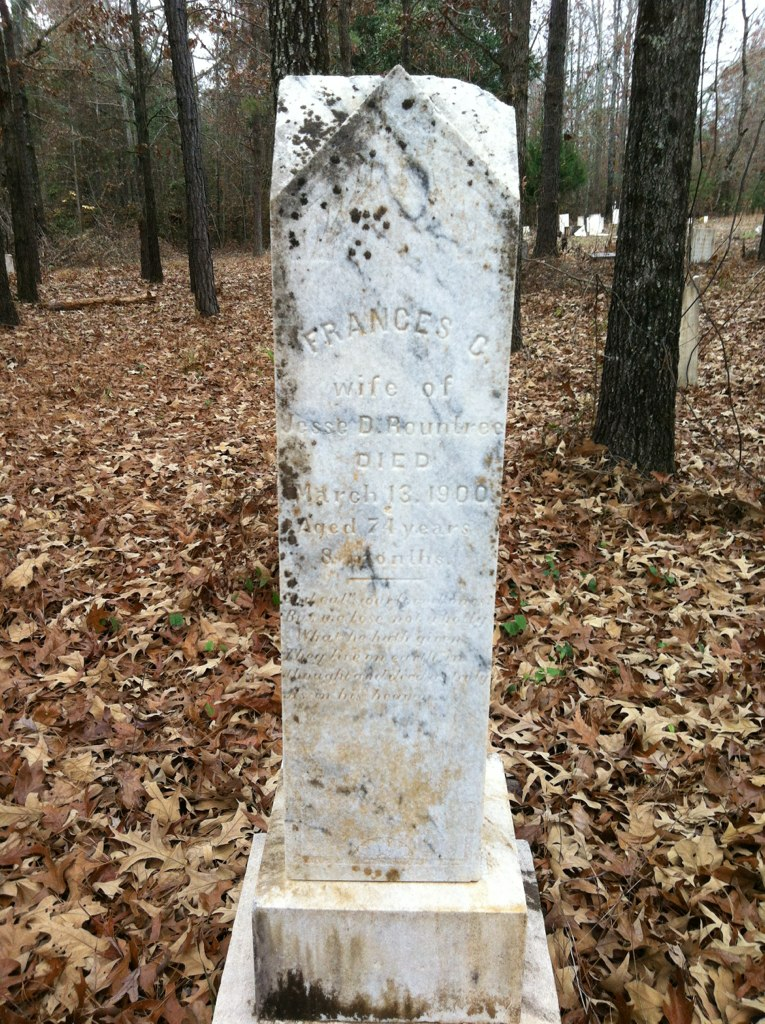obelisk: (268, 64, 521, 879)
